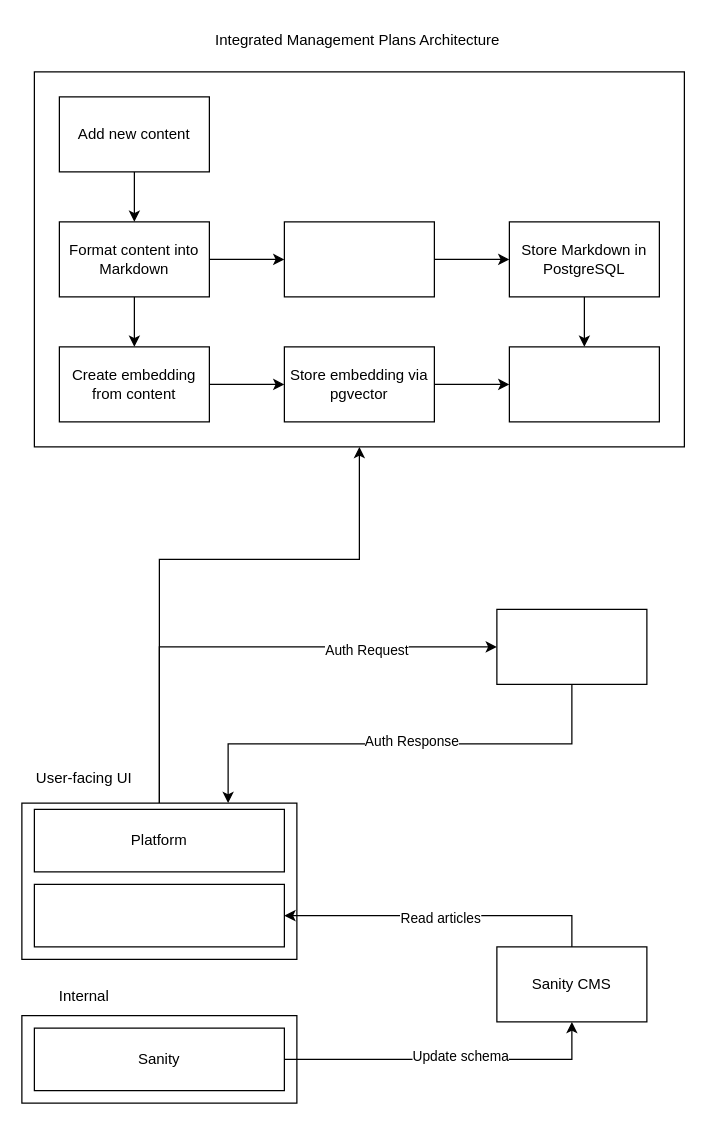
Image size: 706x1125. Some labels were removed from this diagram. The centre of each missing label's shape, as x and y in pixels:
"Let user query, use cosine similarity for ordering" goes at point (583, 384).
"Marketing site" goes at point (158, 915).
"Pick images from content and place in S3 bucket" goes at point (358, 259).
"Supabase" goes at point (571, 646).
